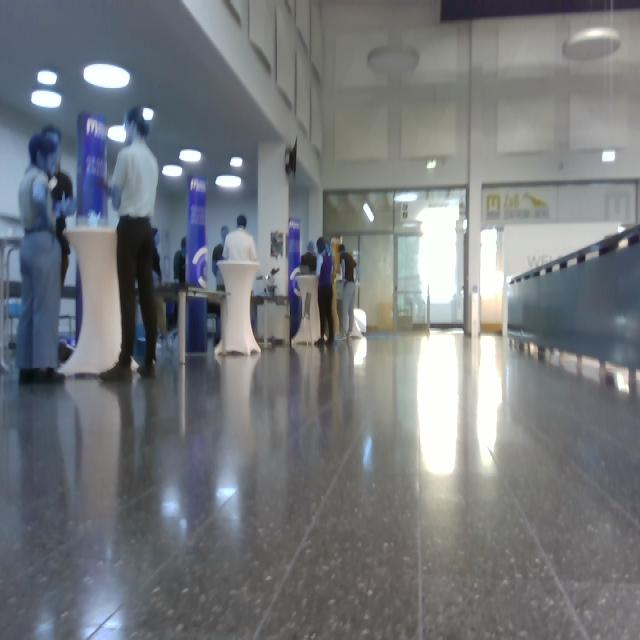light bulb: (563, 26, 621, 61), (367, 44, 420, 78), (83, 62, 131, 89), (31, 89, 62, 109), (215, 174, 242, 189), (108, 125, 127, 144), (37, 69, 58, 86), (180, 149, 202, 162), (162, 165, 183, 178), (363, 203, 375, 223), (142, 106, 154, 121), (602, 151, 616, 163), (230, 156, 243, 168)
person: (98, 105, 160, 382), (16, 132, 68, 385), (222, 215, 259, 339), (339, 244, 363, 341), (315, 237, 336, 345)
staircase: (505, 222, 639, 396)
tiled floor: (2, 328, 639, 638)
